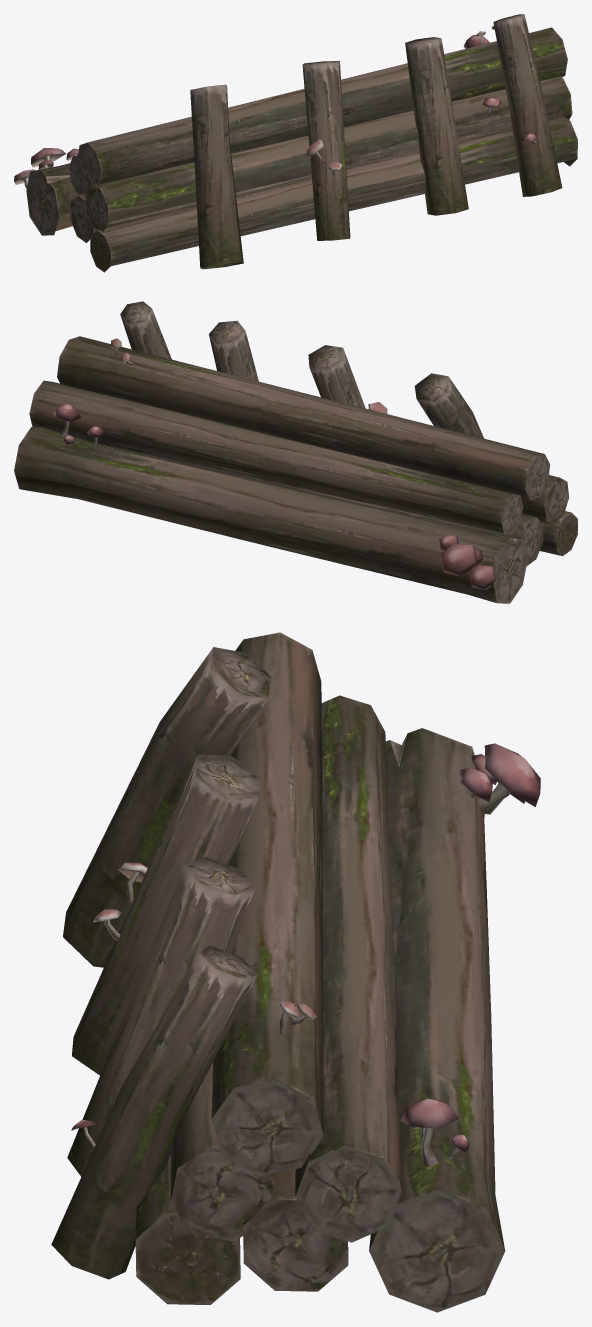
The picture shows the model from 3 angles, top to bottom: view 1: azimuth 30°, elevation 25°; view 2: azimuth 150°, elevation 25°; view 3: azimuth 270°, elevation 25°; orthographic projection. The views are drawn at different scales.
Parts seen in each view (by area): view 1: MB0003_12; view 2: MB0003_12; view 3: MB0003_12.
Part boxes in pixels (bbox=[...]): MB0003_12: bbox=[14, 14, 577, 272]; MB0003_12: bbox=[14, 301, 577, 603]; MB0003_12: bbox=[51, 632, 540, 1312].
Bounding box in the file's own units: 5.54 × 1.78 × 2.4.
